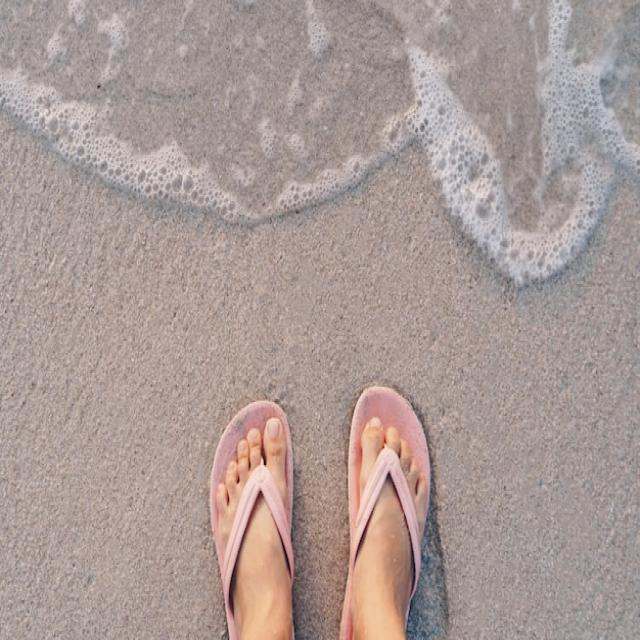No_Shoe: (338, 378, 432, 638), (204, 390, 301, 640)
